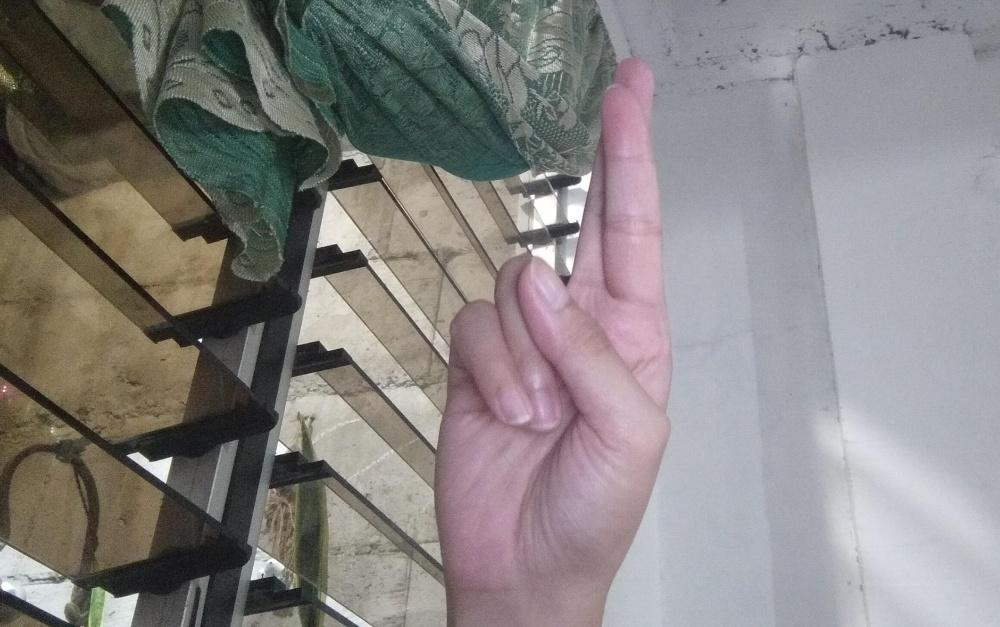r: (433, 56, 675, 600)
